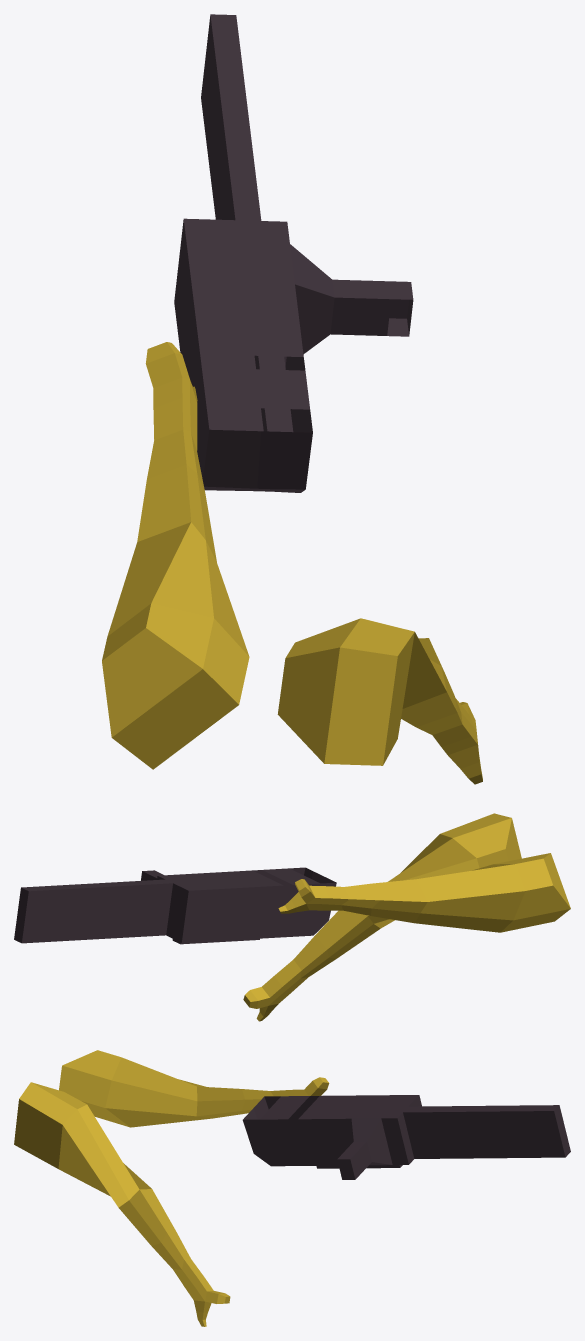
The model's file is arme_000110.obj.
3 renders of one model, top to bottom at view 1: azimuth 30°, elevation 25°; view 2: azimuth 150°, elevation 25°; view 3: azimuth 270°, elevation 25°, orthographic. The views are drawn at different scales.
Visible parts, largest first — view 1: Cube.048_Cube.024, Cube.046_Cube.010; view 2: Cube.048_Cube.024, Cube.046_Cube.010; view 3: Cube.048_Cube.024, Cube.046_Cube.010.
Part boxes in pixels (x1,y1,x2,y2): Cube.048_Cube.024: [102, 342, 482, 784]; Cube.046_Cube.010: [174, 14, 413, 492]; Cube.048_Cube.024: [243, 813, 570, 1021]; Cube.046_Cube.010: [14, 867, 336, 944]; Cube.048_Cube.024: [14, 1050, 329, 1326]; Cube.046_Cube.010: [242, 1095, 570, 1179].
Size of the model in its own units: 1444 by 1135 by 2352.
